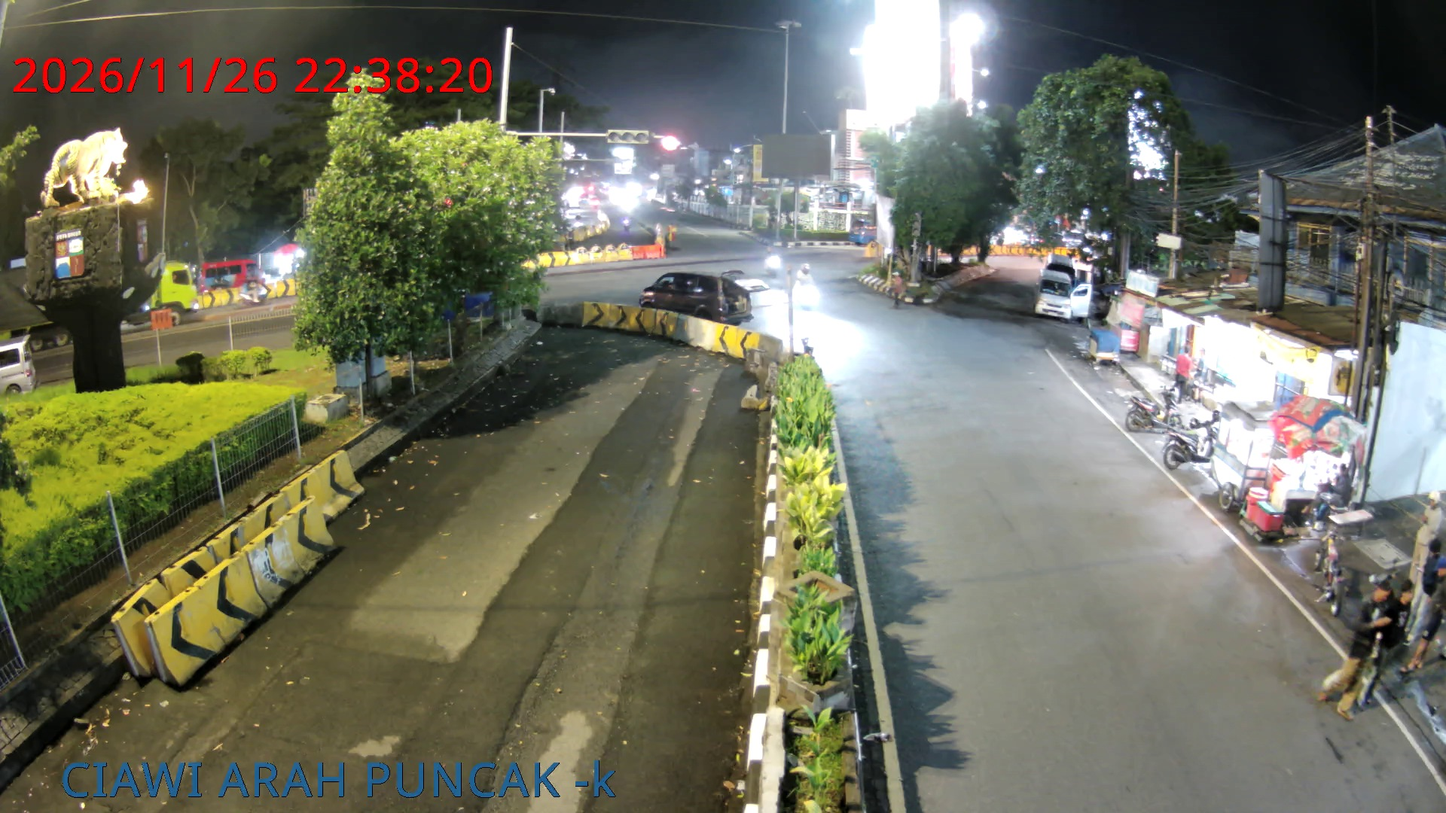Gerobak: (1202, 394, 1284, 519)
